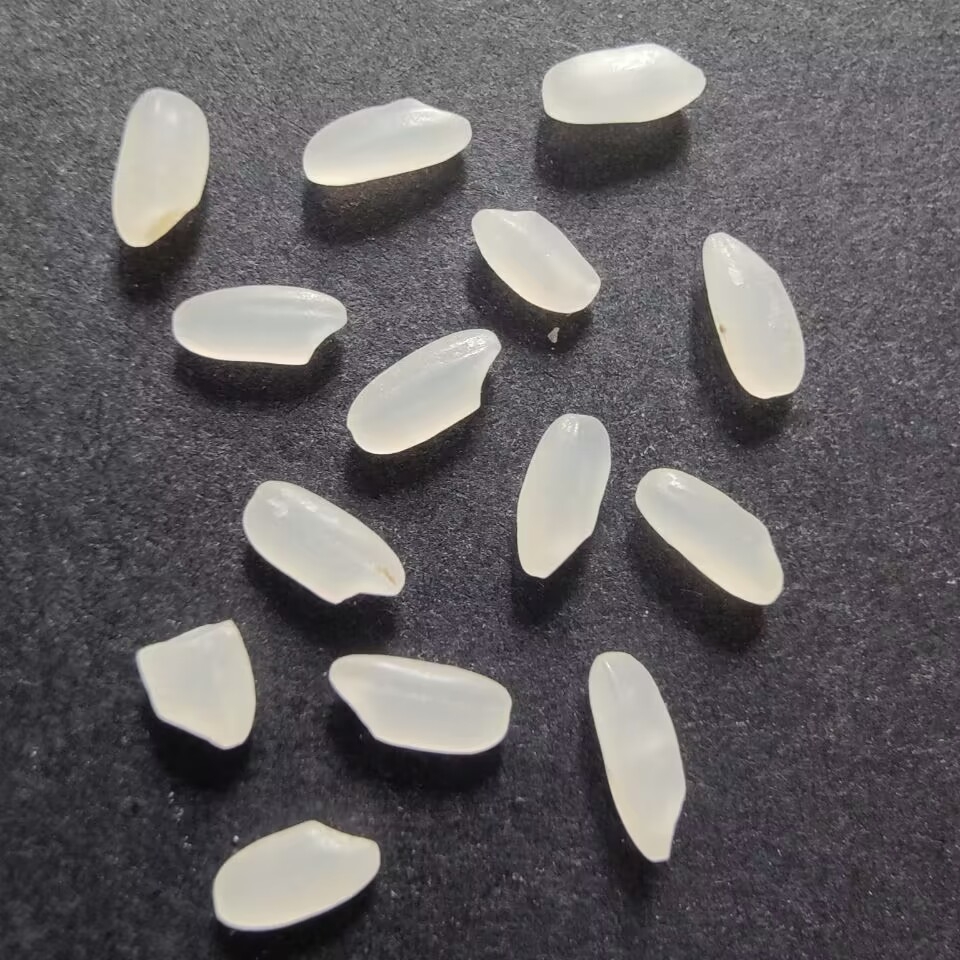broken: (128, 616, 257, 759)
rice: (583, 646, 691, 868), (240, 474, 408, 614), (632, 463, 787, 611), (320, 647, 516, 757), (341, 327, 502, 458), (211, 813, 382, 935), (695, 226, 811, 402), (106, 81, 216, 256), (511, 411, 613, 584), (298, 91, 475, 190), (164, 283, 352, 372), (533, 39, 713, 130), (466, 205, 606, 318)
